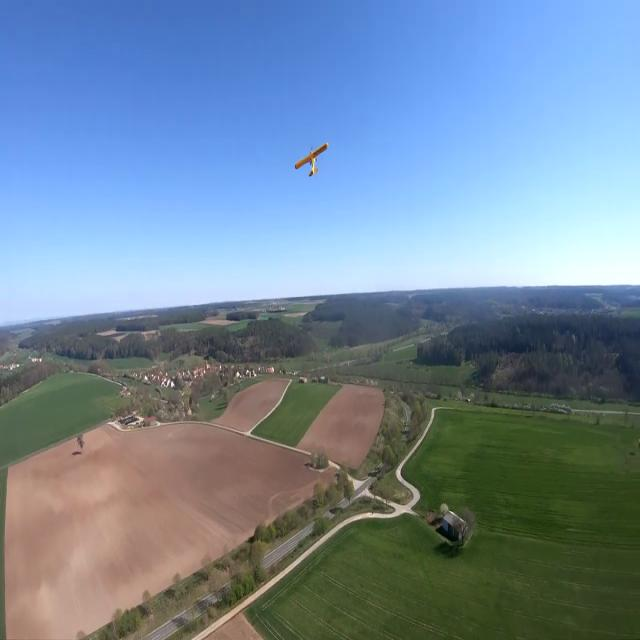iha: (293, 139, 329, 181)
